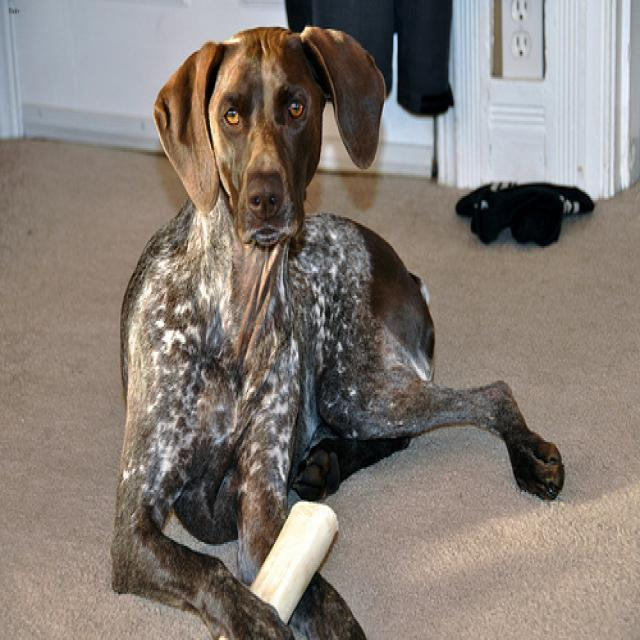dog-german_shorthaired: (104, 13, 571, 636)
